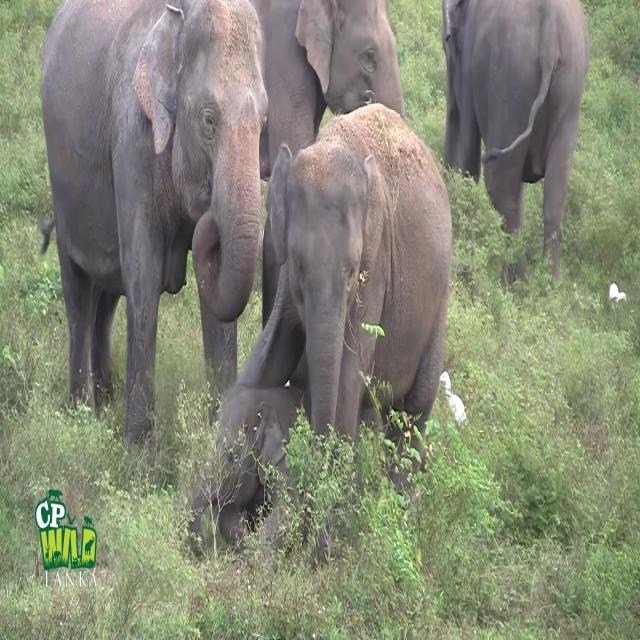Elephant: (39, 0, 269, 454), (236, 101, 453, 496), (441, 0, 590, 290), (249, 0, 405, 180), (186, 382, 332, 566)
